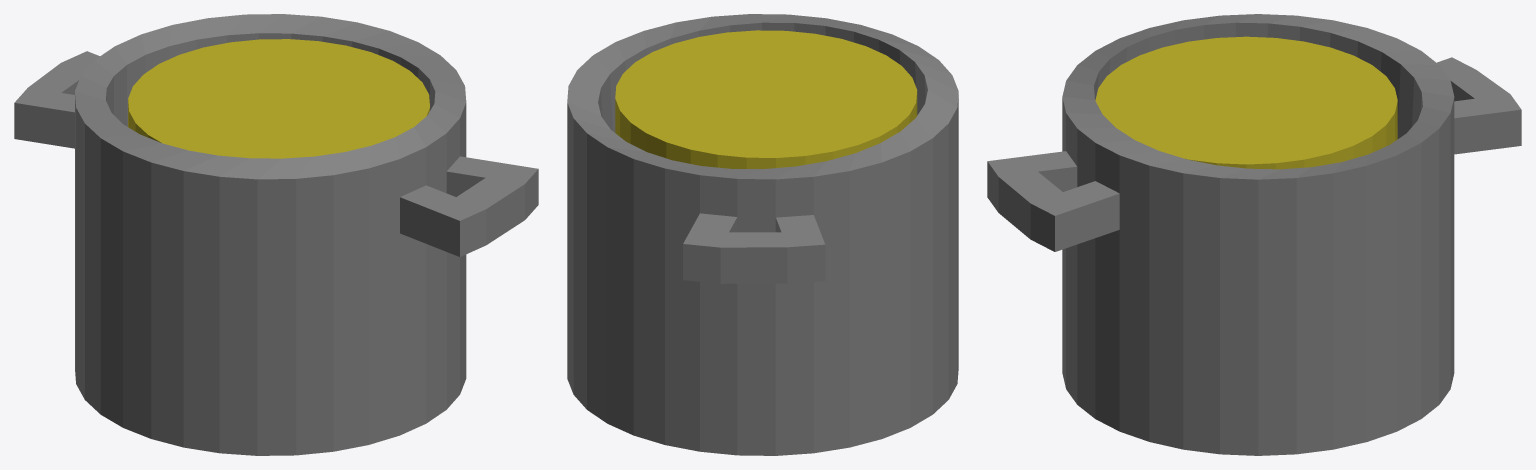
File: OllaPinaBien.fbx
3 views of the same model, side by side, from view 1: azimuth 30°, elevation 25°; view 2: azimuth 150°, elevation 25°; view 3: azimuth 270°, elevation 25° (orthographic).
Visible parts, largest first — view 1: Cylinder, Cylinder.001; view 2: Cylinder, Cylinder.001; view 3: Cylinder, Cylinder.001.
Part boxes in pixels (left/top/right/bottom): Cylinder: left=14, top=14, right=538, bottom=455; Cylinder.001: left=128, top=39, right=429, bottom=158; Cylinder: left=567, top=14, right=958, bottom=455; Cylinder.001: left=615, top=30, right=917, bottom=168; Cylinder: left=987, top=14, right=1521, bottom=455; Cylinder.001: left=1095, top=36, right=1397, bottom=169.
Bounding box in the file's own units: 45 × 35.99 × 61.33.
